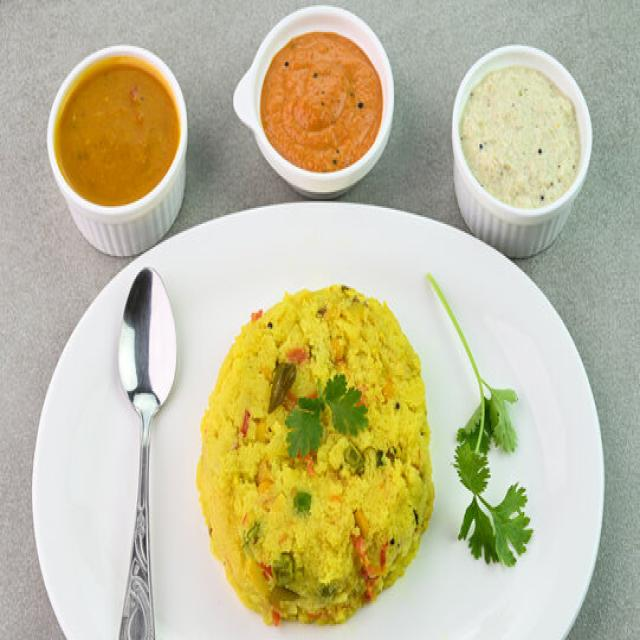UPMA: (196, 288, 432, 622)
